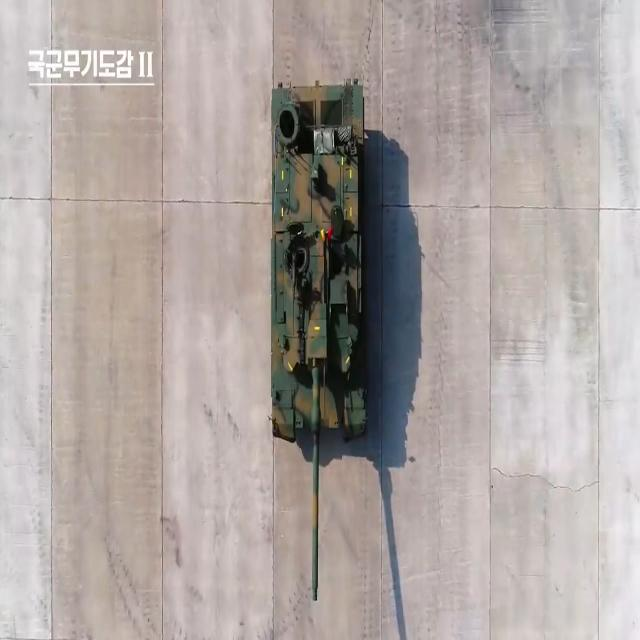korea tank: (267, 75, 375, 606)
